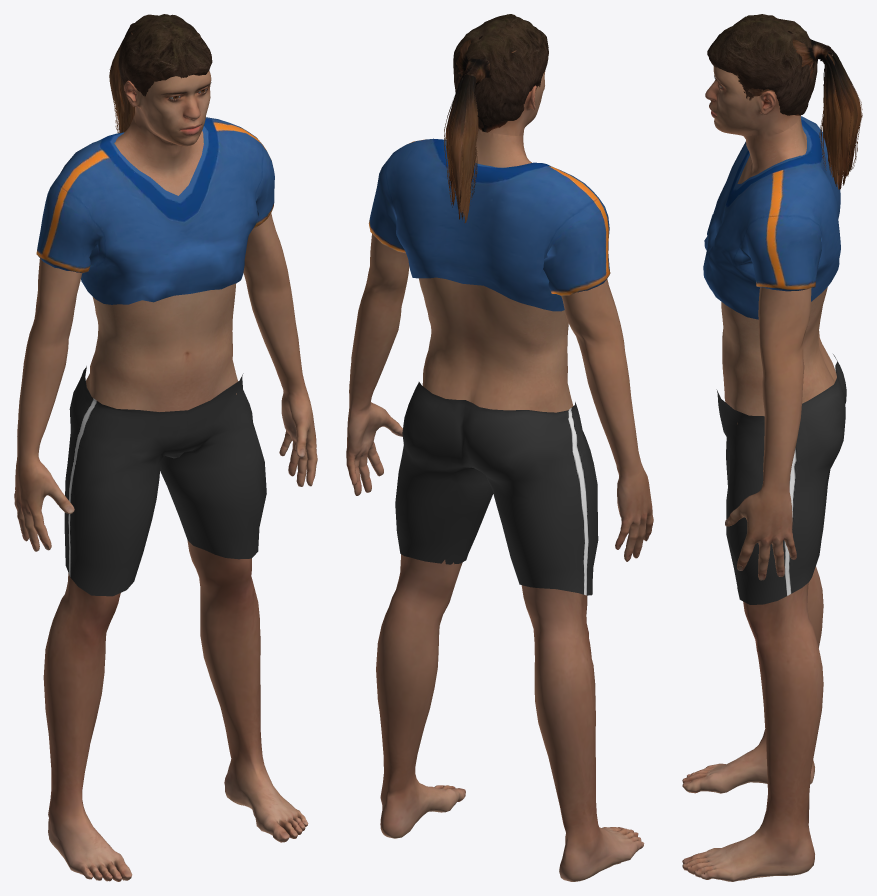
Rendered from corpo.glb.
3 views of the same model, side by side, from view 1: azimuth 30°, elevation 25°; view 2: azimuth 150°, elevation 25°; view 3: azimuth 270°, elevation 25° (orthographic).
Parts seen in each view (by area): view 1: PeleMembros, Bermuda, Top, PeleTronco, Cabelo, PeleCabeca, CabeloLongo; view 2: PeleMembros, Bermuda, Top, PeleTronco, Cabelo, CabeloLongo, PeleCabeca; view 3: PeleMembros, Top, Bermuda, PeleTronco, Cabelo, CabeloLongo, PeleCabeca.
Part boxes in pixels (x1,y1,x2,y2): PeleMembros: [14, 213, 317, 881]; Bermuda: [64, 366, 266, 596]; Top: [36, 117, 274, 304]; PeleTronco: [86, 115, 238, 411]; Cabelo: [118, 14, 212, 96]; PeleCabeca: [124, 70, 211, 146]; CabeloLongo: [109, 23, 139, 133]; PeleMembros: [346, 234, 653, 881]; Bermuda: [395, 382, 598, 595]; Top: [368, 138, 610, 311]; PeleTronco: [419, 130, 573, 412]; Cabelo: [453, 14, 548, 128]; CabeloLongo: [444, 35, 537, 222]; PeleCabeca: [478, 71, 545, 135]; PeleMembros: [682, 287, 823, 881]; Top: [703, 116, 840, 319]; Bermuda: [716, 354, 846, 604]; PeleTronco: [721, 115, 836, 424]; Cabelo: [707, 14, 817, 115]; CabeloLongo: [737, 31, 862, 189]; PeleCabeca: [705, 66, 800, 135].
Size of the model in its own units: 0.659 by 1.77 by 0.3567.
Materials: 7 (7 with a texture image).
